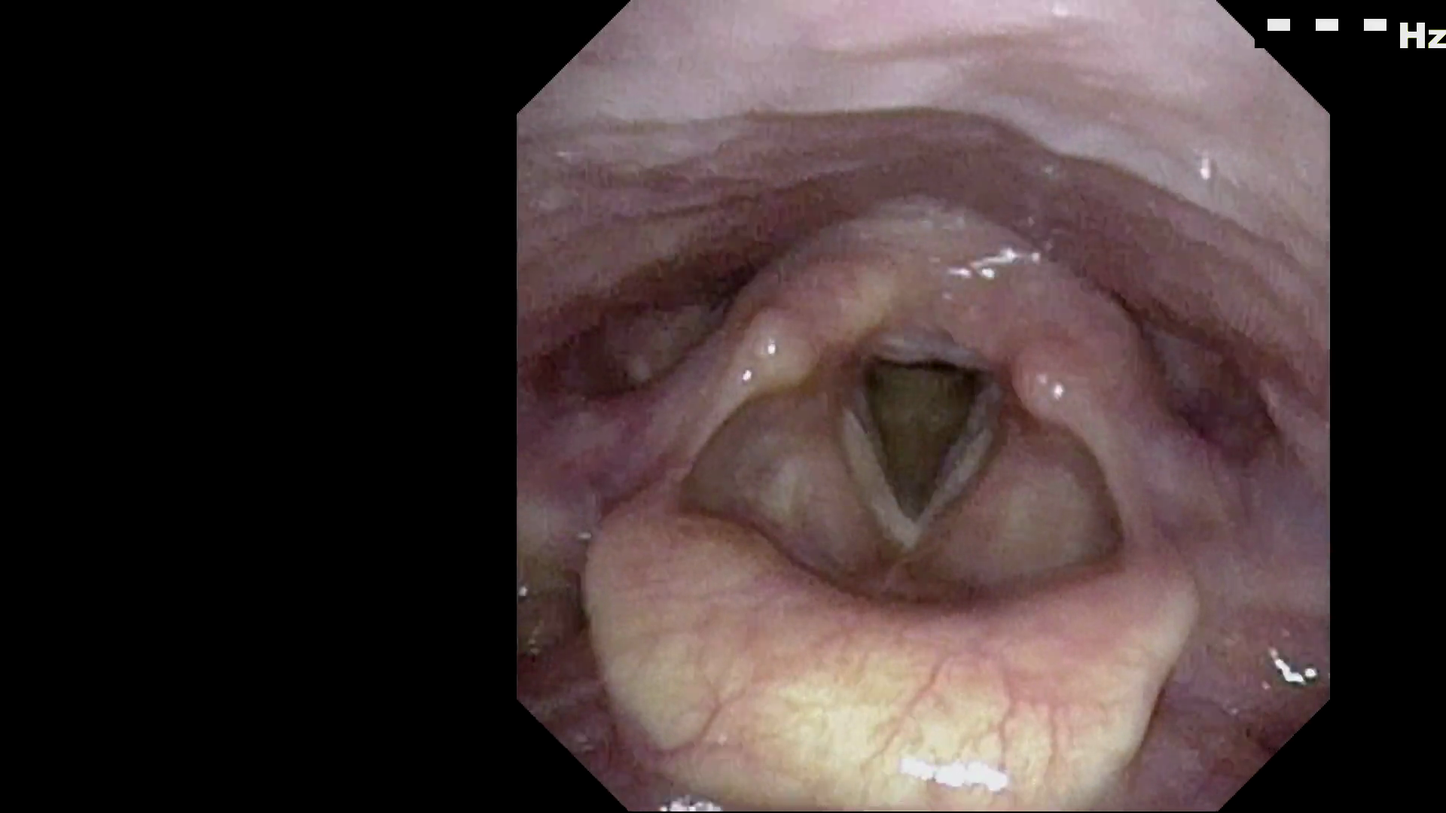epiglottis: (580, 503, 1209, 753)
trachea: (839, 329, 1018, 554)
